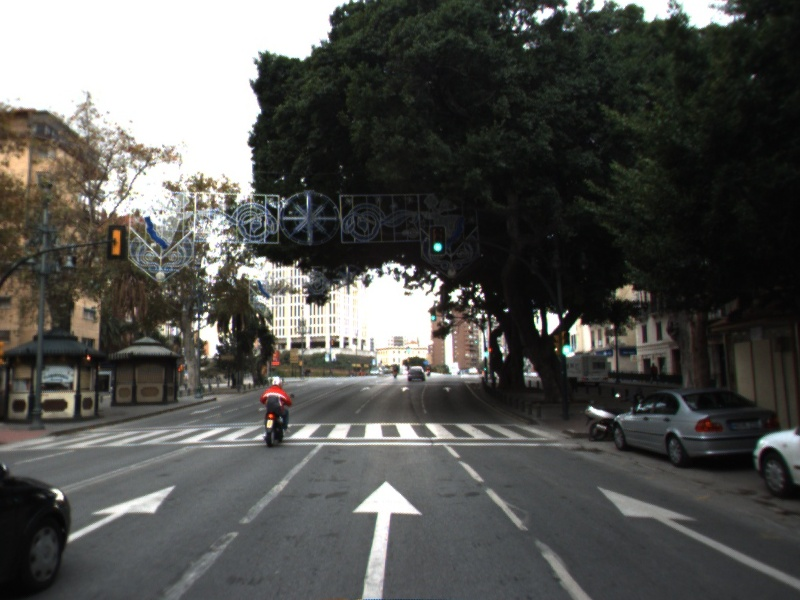STRAIGHT: (592, 480, 800, 588), (348, 475, 426, 600), (65, 480, 179, 543)
